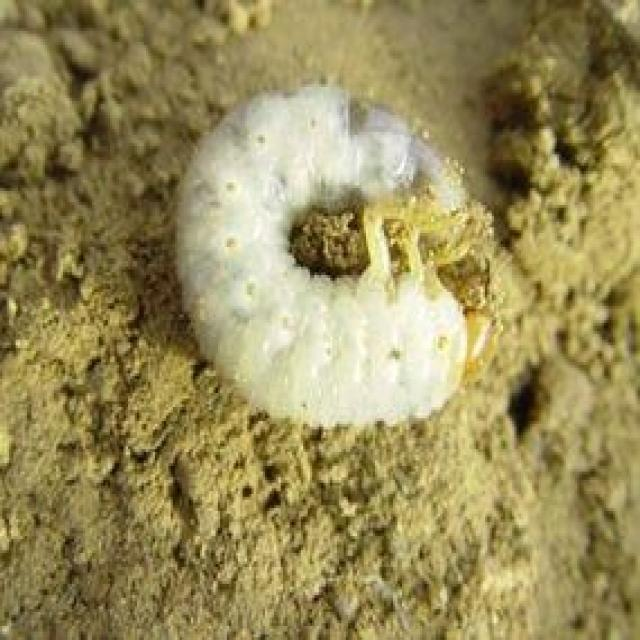grub: (167, 77, 495, 430)
